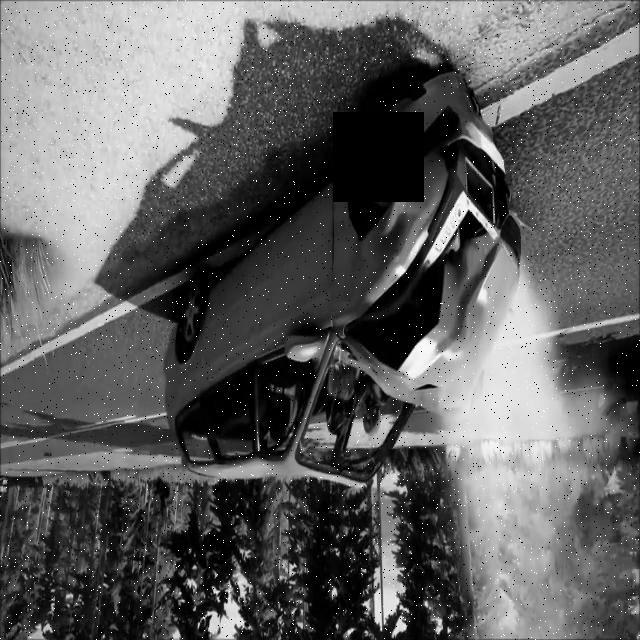severe: (160, 63, 528, 491)
